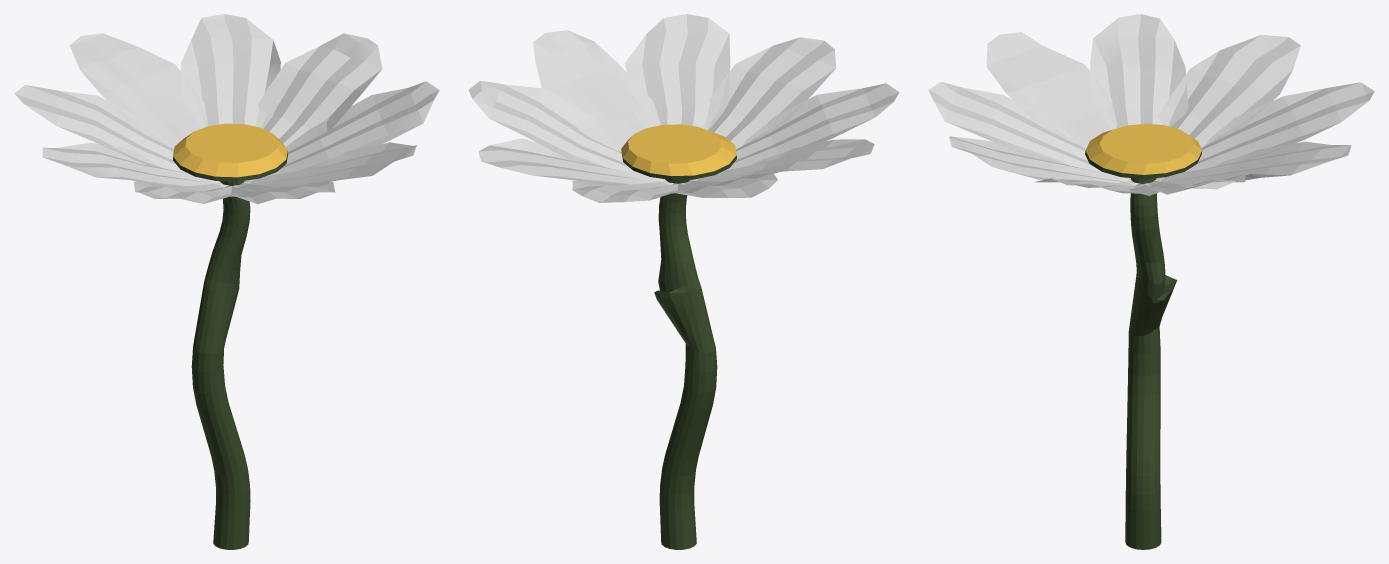
3 renders of one model, left to right at view 1: azimuth 30°, elevation 25°; view 2: azimuth 150°, elevation 25°; view 3: azimuth 270°, elevation 25°, orthographic.
Parts seen in each view (by area): view 1: Flower, Stem.001; view 2: Flower, Stem.001; view 3: Flower, Stem.001.
Boxes of the visible parts, x1,y1,x2,y2 form: Flower: (14,14,439,204); Stem.001: (173,123,287,549); Flower: (468,14,899,202); Stem.001: (621,124,736,549); Flower: (928,14,1374,195); Stem.001: (1085,123,1202,549).
Size of the model in its own units: 717 by 827 by 759.
